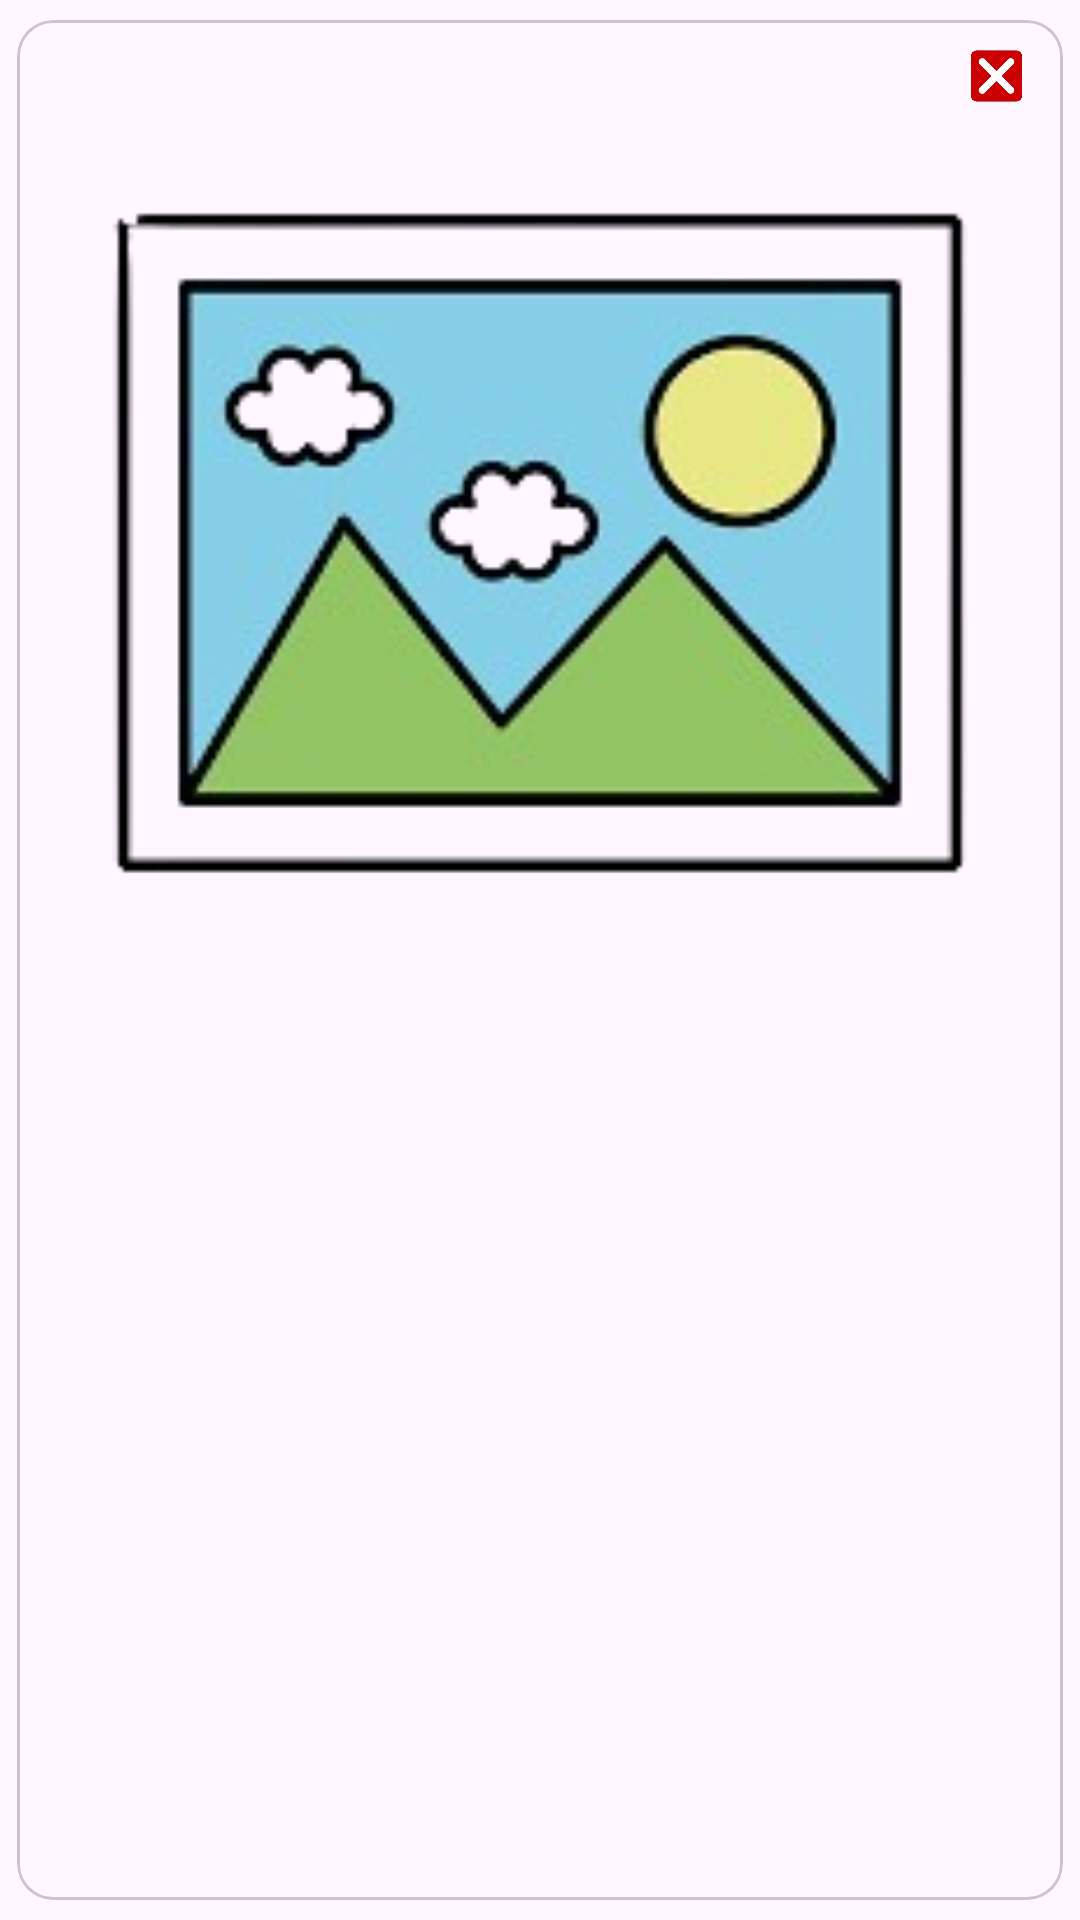

Icon click points for this 1080 x 1920 phone screenshot, format (x=x, y=y):
borrar: (x=996, y=76)
